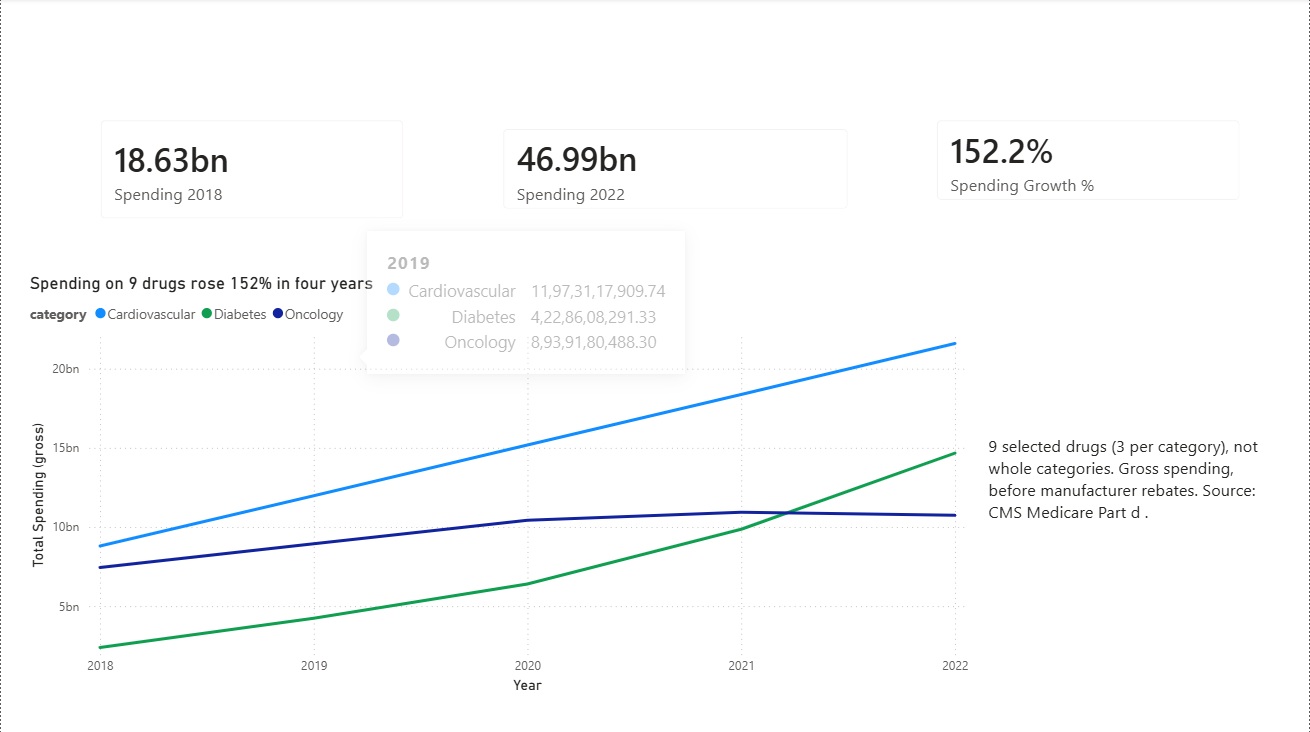

This screenshot's page, from the dashboard's own definition file:
{"tool":"powerbi","page":{"name":"Overview","canvas":[1280,720],"ordinal":0},"visuals":[{"type":"cardVisual","fields":{"Data":["cms_part_d_clean.Spending 2018"]},"box":[80.7,102.7,330.2,130.8],"z":0},{"type":"cardVisual","fields":{"Data":["cms_part_d_clean.Spending 2022"]},"box":[474.5,111.3,371.7,112.5],"z":1000},{"type":"cardVisual","fields":{"Data":["cms_part_d_clean.Spending Growth %"]},"box":[898.8,102.7,330.2,112.5],"z":2000},{"type":"lineChart","title":"Spending on 9 drugs rose 152% in four years","fields":{"Category":["cms_part_d_clean.data_year"],"Y":["cms_part_d_clean.Total Spending"],"Series":["cms_part_d_clean.category"]},"box":[23,268.9,928.2,416.1],"z":3000},{"type":"textbox","box":[961.5,422.5,290.6,133.1],"z":4000}]}

Visuals, with their boxes in screenshot pixels (x1, y1, x2, y2), scaled from the page's 1280x720 canvas onto the 1310x732 screenshot:
cardVisual - cms_part_d_clean.Spending 2018: 83, 104, 421, 237
cardVisual - cms_part_d_clean.Spending 2022: 486, 113, 866, 228
cardVisual - cms_part_d_clean.Spending Growth %: 920, 104, 1258, 219
"Spending on 9 drugs rose 152% in four years" lineChart: 24, 273, 973, 696
textbox: 984, 430, 1281, 565
